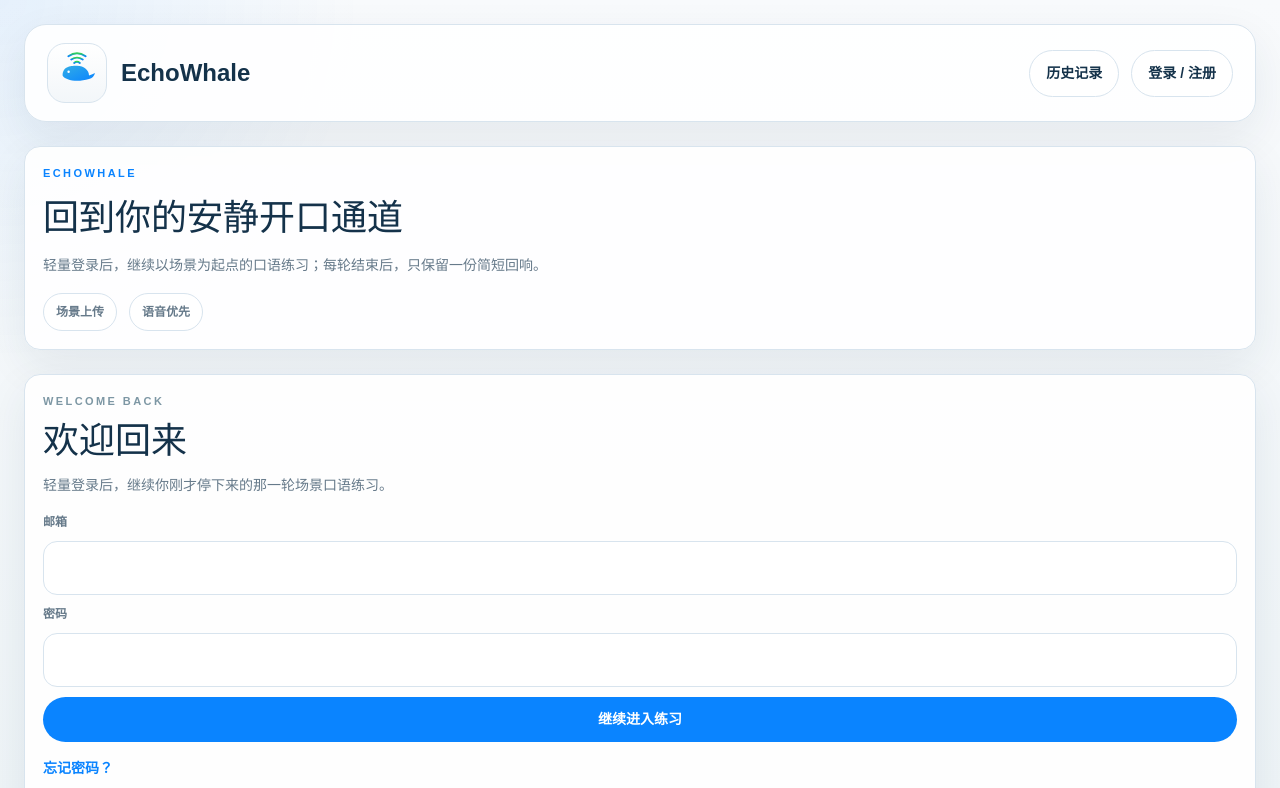
Test: App › shows a localized error when login credentials are invalid
Type "learner@example.com" into the field labelled "邮箱". click: coordinates (640, 568)
box: [43, 541, 1237, 595]
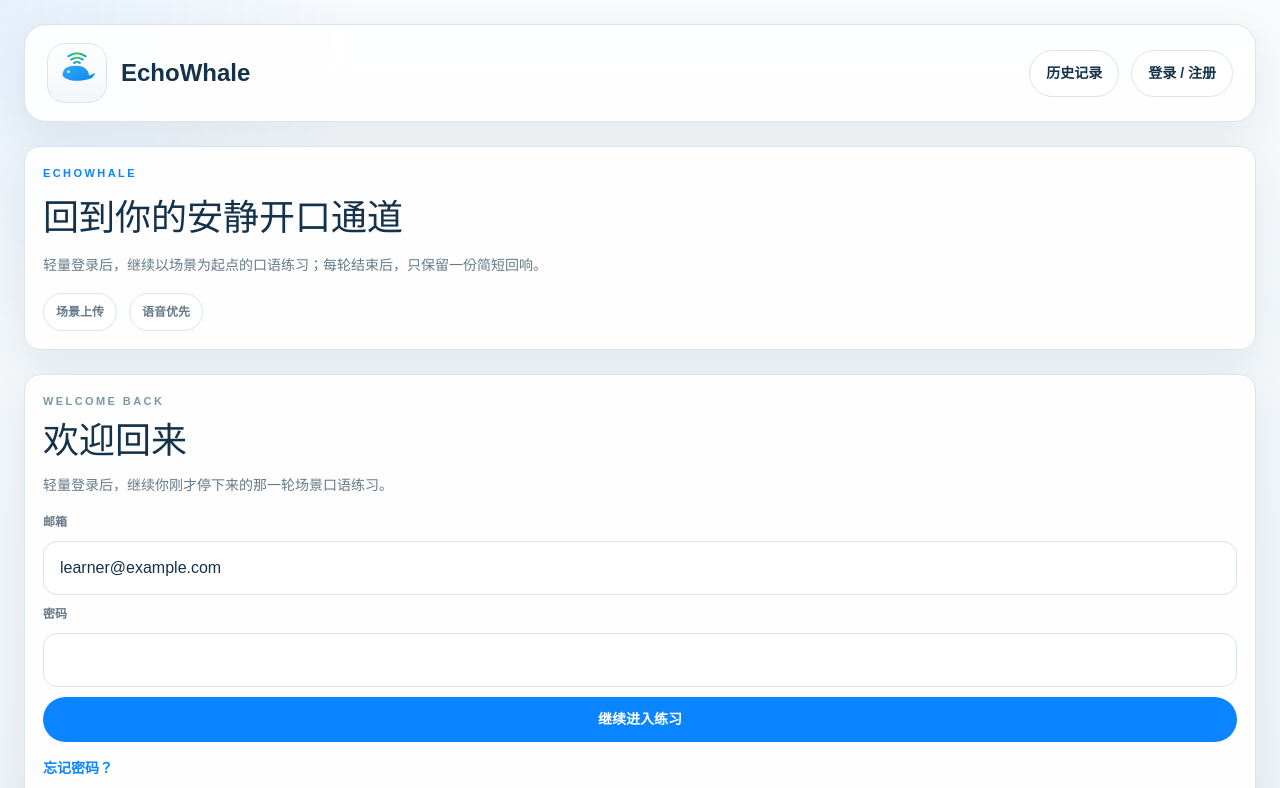
Type "wrong-pass" into the password field labelled "密码". click: coordinates (640, 660)
box: [43, 633, 1237, 687]
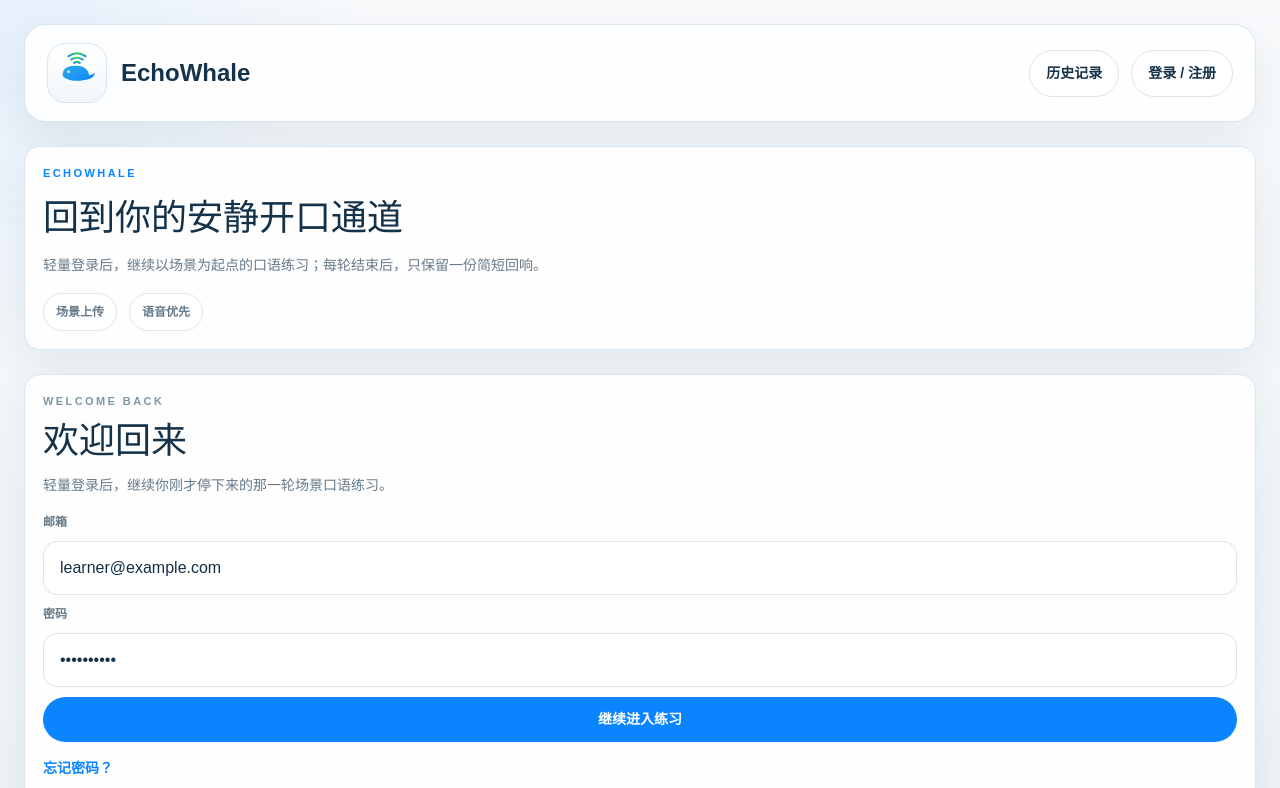
Click the button "继续进入练习". click: coordinates (640, 719)
box: [43, 697, 1237, 742]
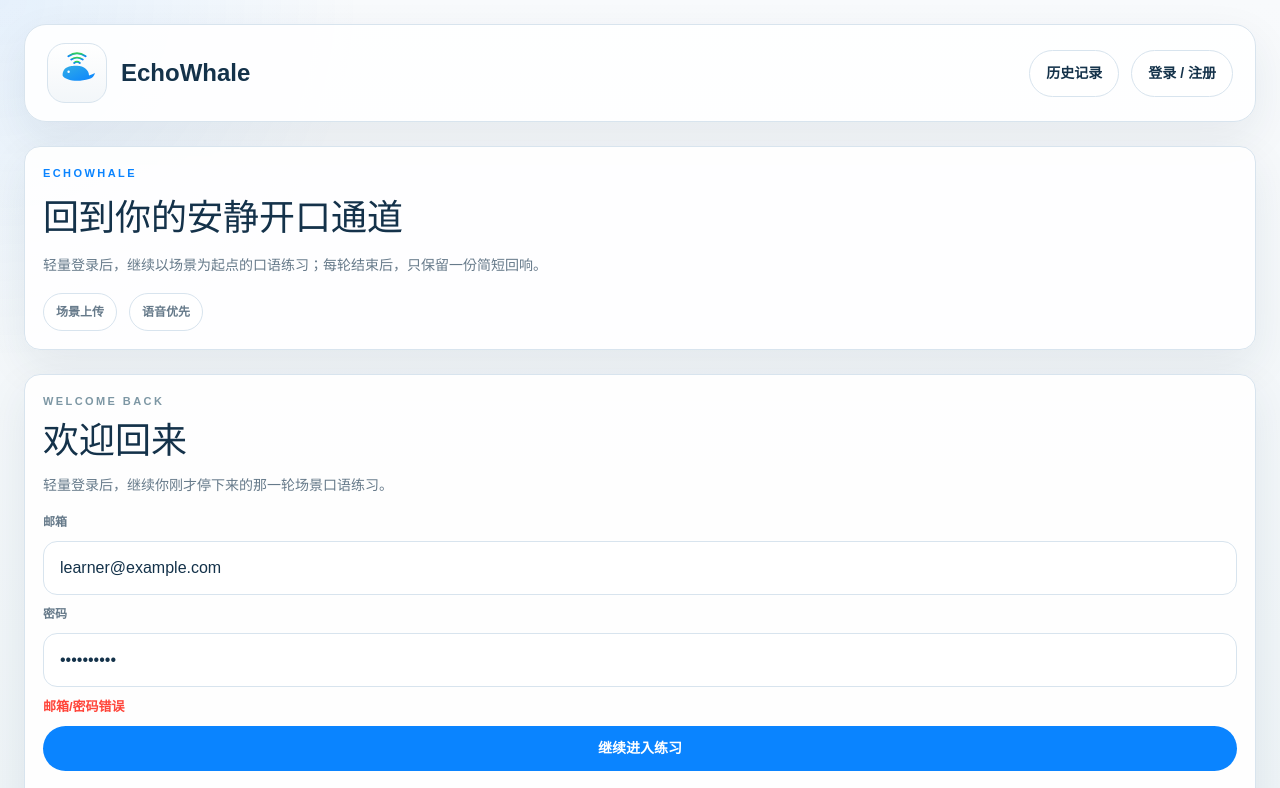
Expected: the text "邮箱/密码错误" is shown, [43, 699, 125, 714]
